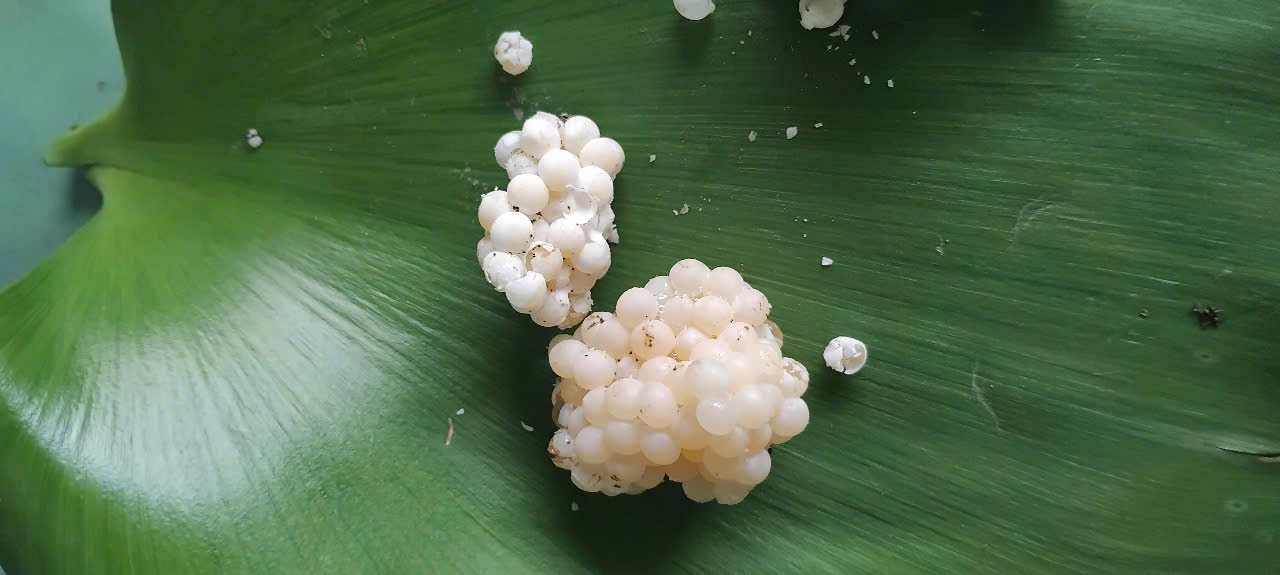trung_oc_buou_den: (479, 46, 853, 521)
